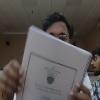notebook: (13, 24, 92, 99)
